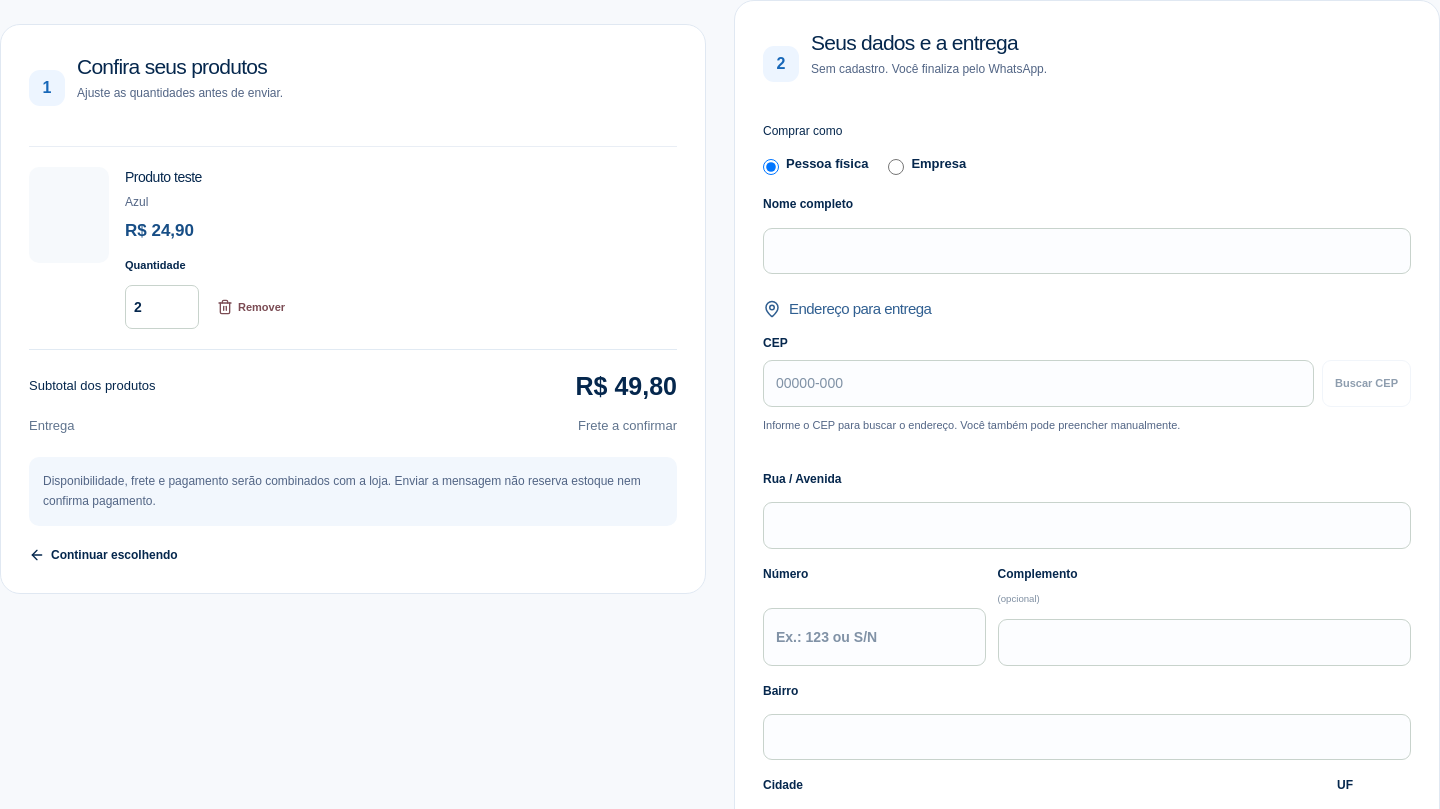
Test: manual checkout and card quantities › does not overwrite a manually edited address with an older postcode response
The image size is (1440, 809).
Type "01001000" into the field labelled "CEP" at (1038, 384), box [763,360,1314,407]
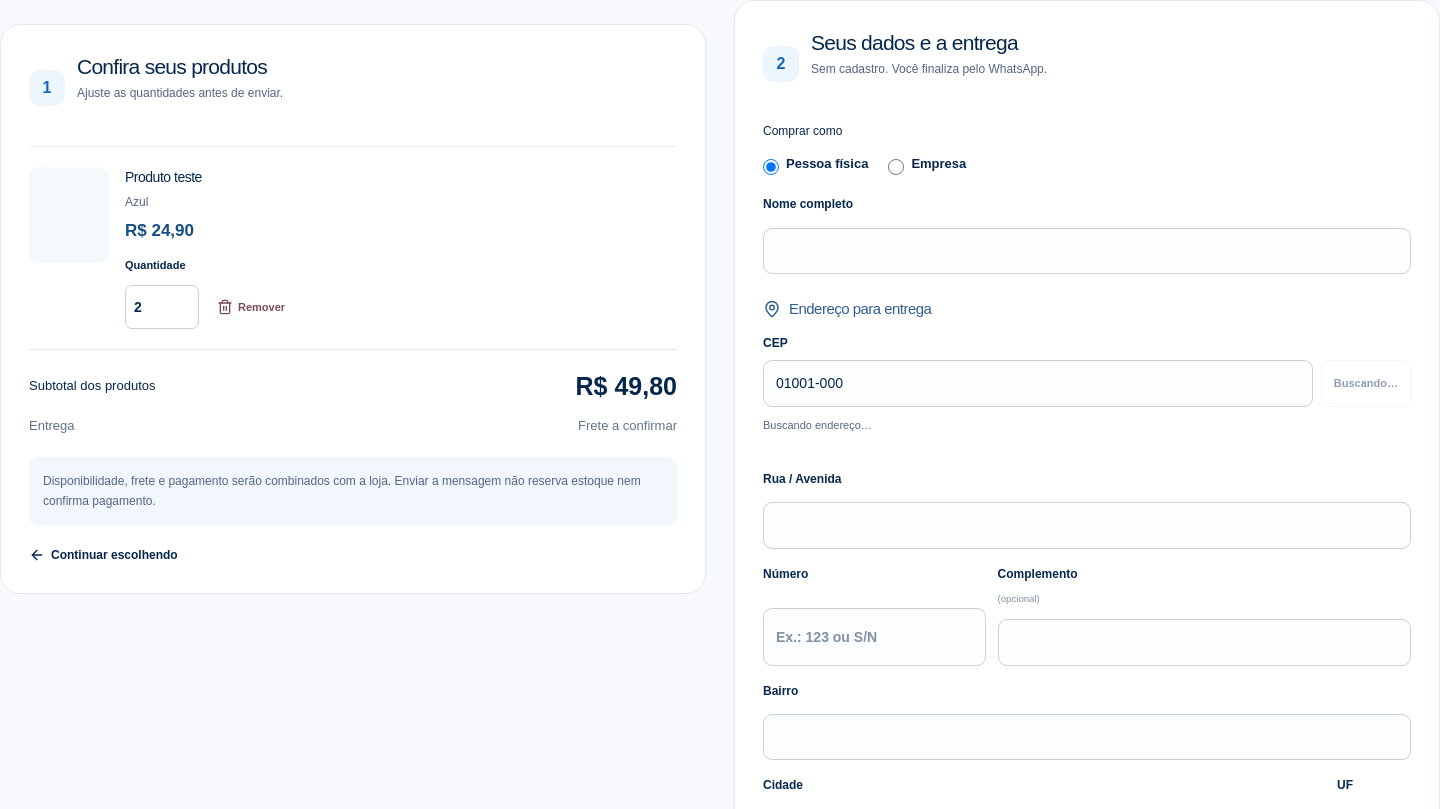
Type "Minha rua corrigida" into the field labelled "Rua / Avenida" at (1087, 526), box [763,502,1411,549]
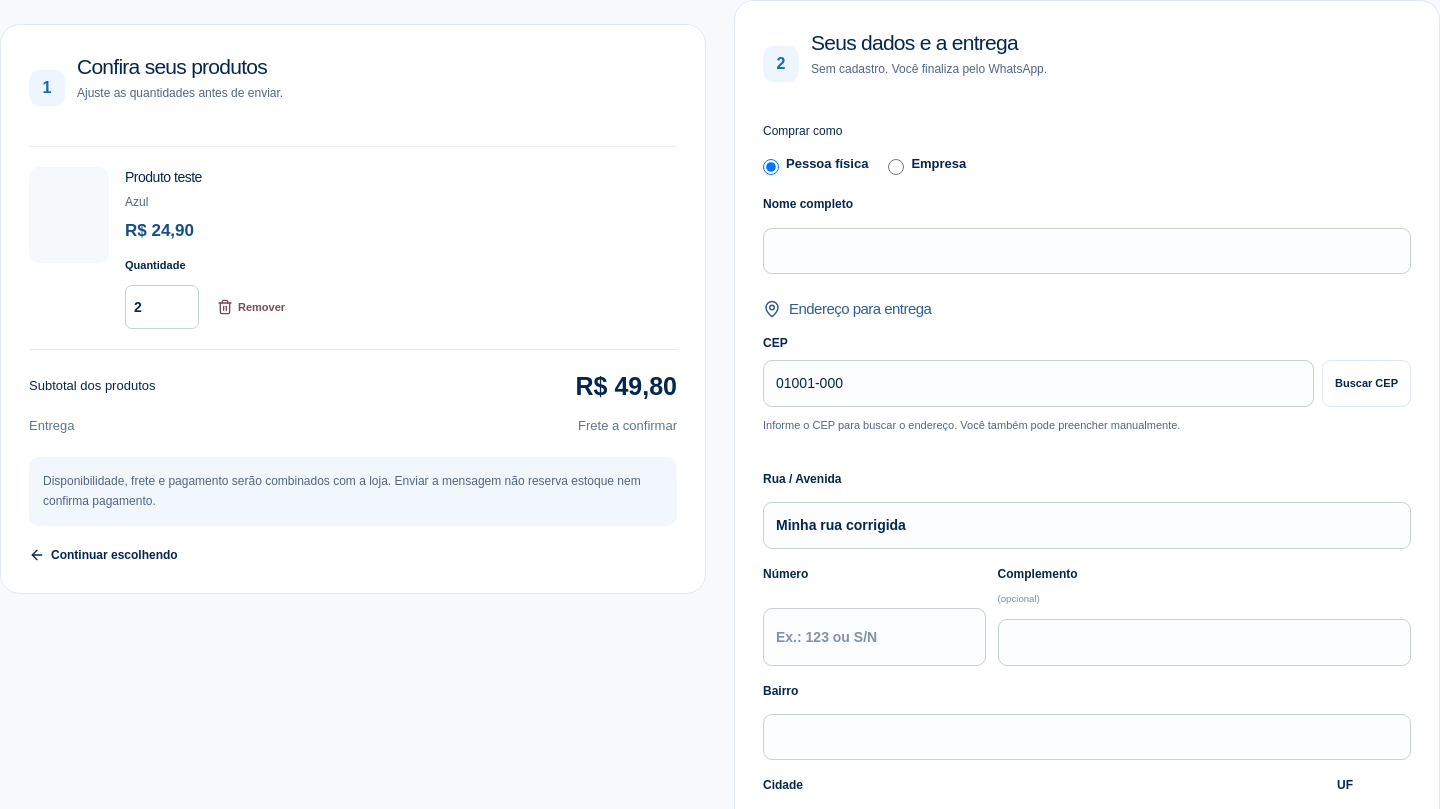
Result: the button "Buscar CEP" is enabled at [1322,360,1411,407]
